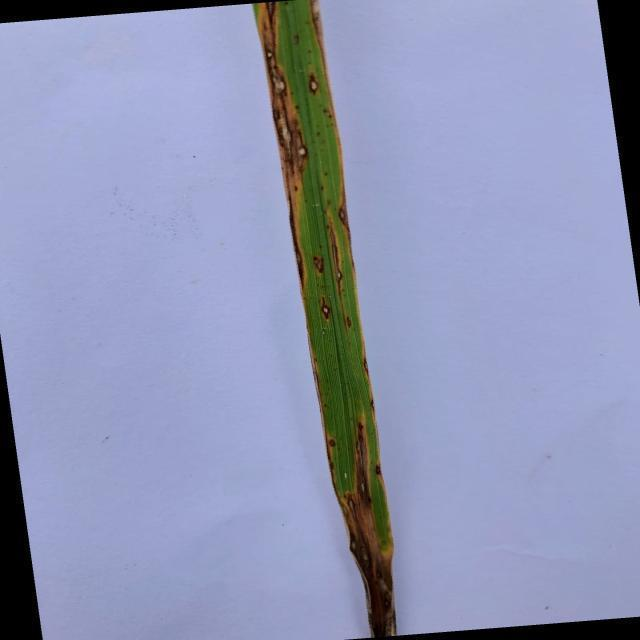Leaf_Blast: (262, 48, 296, 175), (329, 223, 348, 301), (293, 128, 308, 173), (356, 471, 374, 505), (355, 427, 370, 464), (346, 493, 361, 526), (357, 543, 374, 570), (307, 72, 322, 97), (319, 295, 332, 323), (310, 253, 326, 275), (265, 0, 276, 31), (337, 202, 348, 226), (350, 535, 360, 555), (362, 356, 371, 377), (327, 437, 338, 450), (345, 315, 352, 329), (369, 398, 376, 412)
